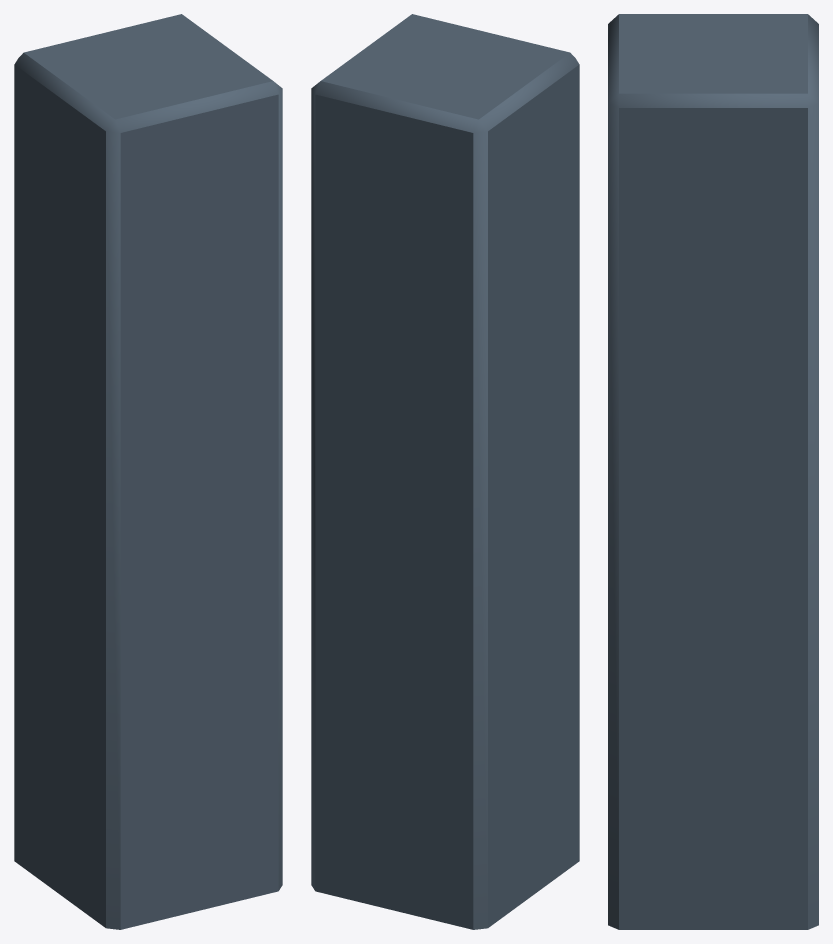
File: Pilar_C_1.obj
3 views of the same model, side by side, from view 1: azimuth 30°, elevation 25°; view 2: azimuth 150°, elevation 25°; view 3: azimuth 270°, elevation 25° (orthographic). The views are drawn at different scales.
Parts seen in each view (by area): view 1: Pilar_C_1; view 2: Pilar_C_1; view 3: Pilar_C_1.
Boxes of the visible parts, box(x1,y1,x2,y2) form: Pilar_C_1: box(14, 14, 282, 929); Pilar_C_1: box(311, 14, 579, 929); Pilar_C_1: box(608, 14, 818, 929).
Bounding box in the file's own units: 0.5496 × 2.4 × 0.551.
